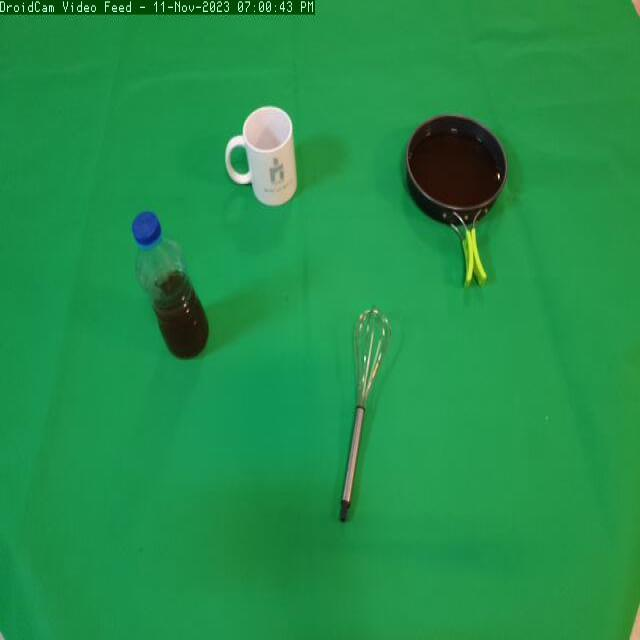cup: (221, 92, 306, 223)
fullbottle: (125, 199, 216, 372)
fullpan: (397, 103, 516, 292)
whisk: (327, 304, 414, 530)
